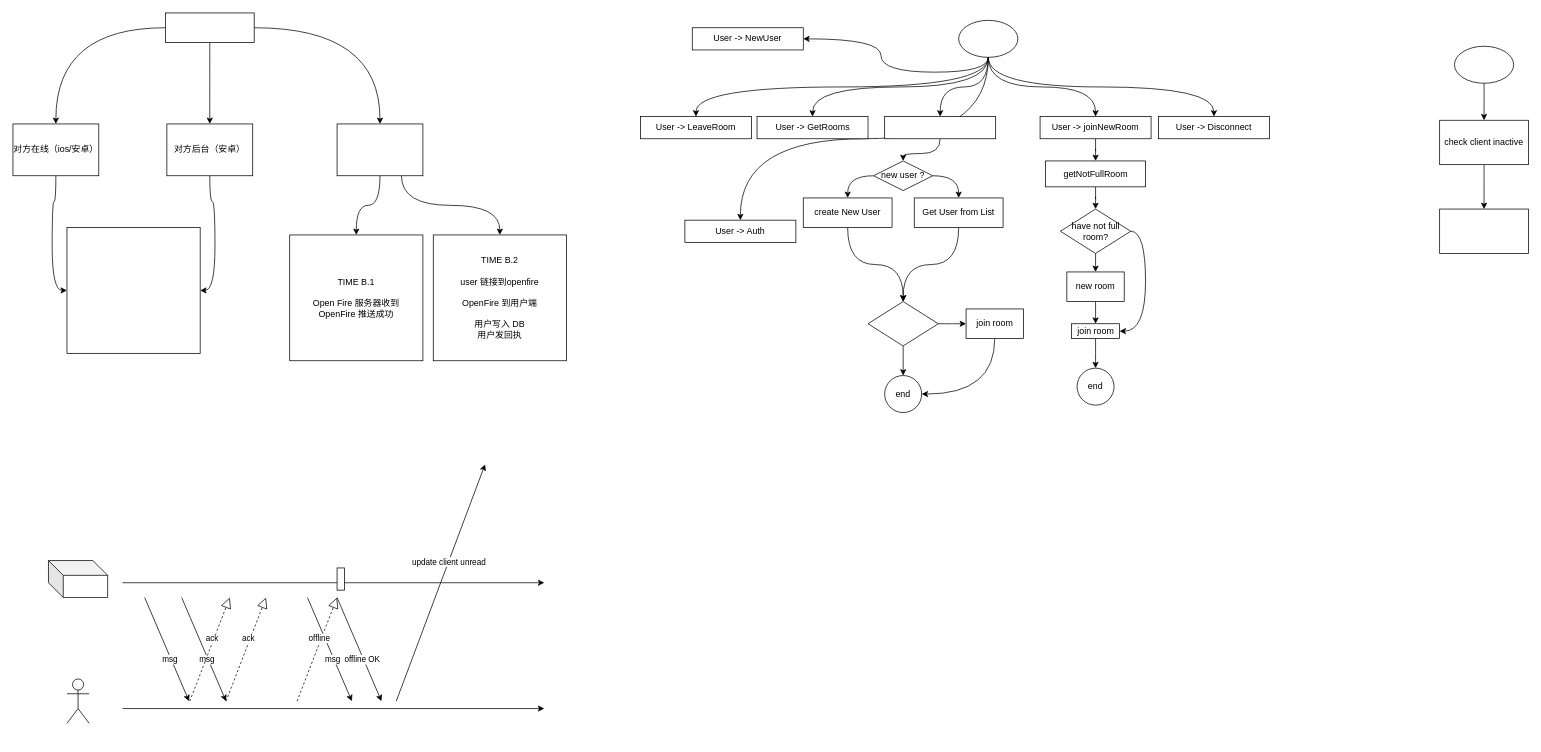
Image size: 1541x752. Some labels were removed from this diagram. Each missing label, with the centre of its shape:
"Actor" belongs at point 77,700.
"lock: remove client out of chain unlock" belongs at point 1483,230.
"openfire" belongs at point 78,579.
"room full ?" belongs at point 902,323.
"server on message" belongs at point 988,38.
"TIME A Open Fire 服务器收到 OpenFire 到用户端 用户写入 DB 用户发回执" belongs at point 133,290.
"timmer" belongs at point 1484,64.
"User -> joinRoom withID" belongs at point 940,127.
"单多聊" belongs at point 209,27.
"对方离线（安卓/ios）" belongs at point 379,149.
